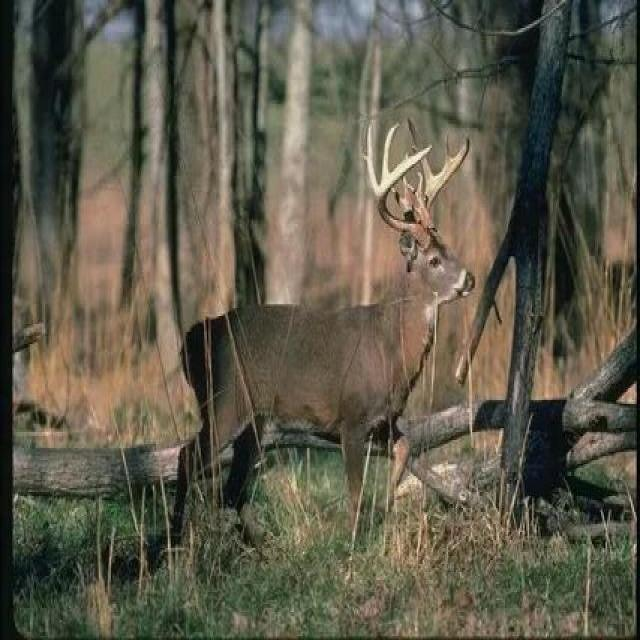deer: (108, 115, 456, 522)
